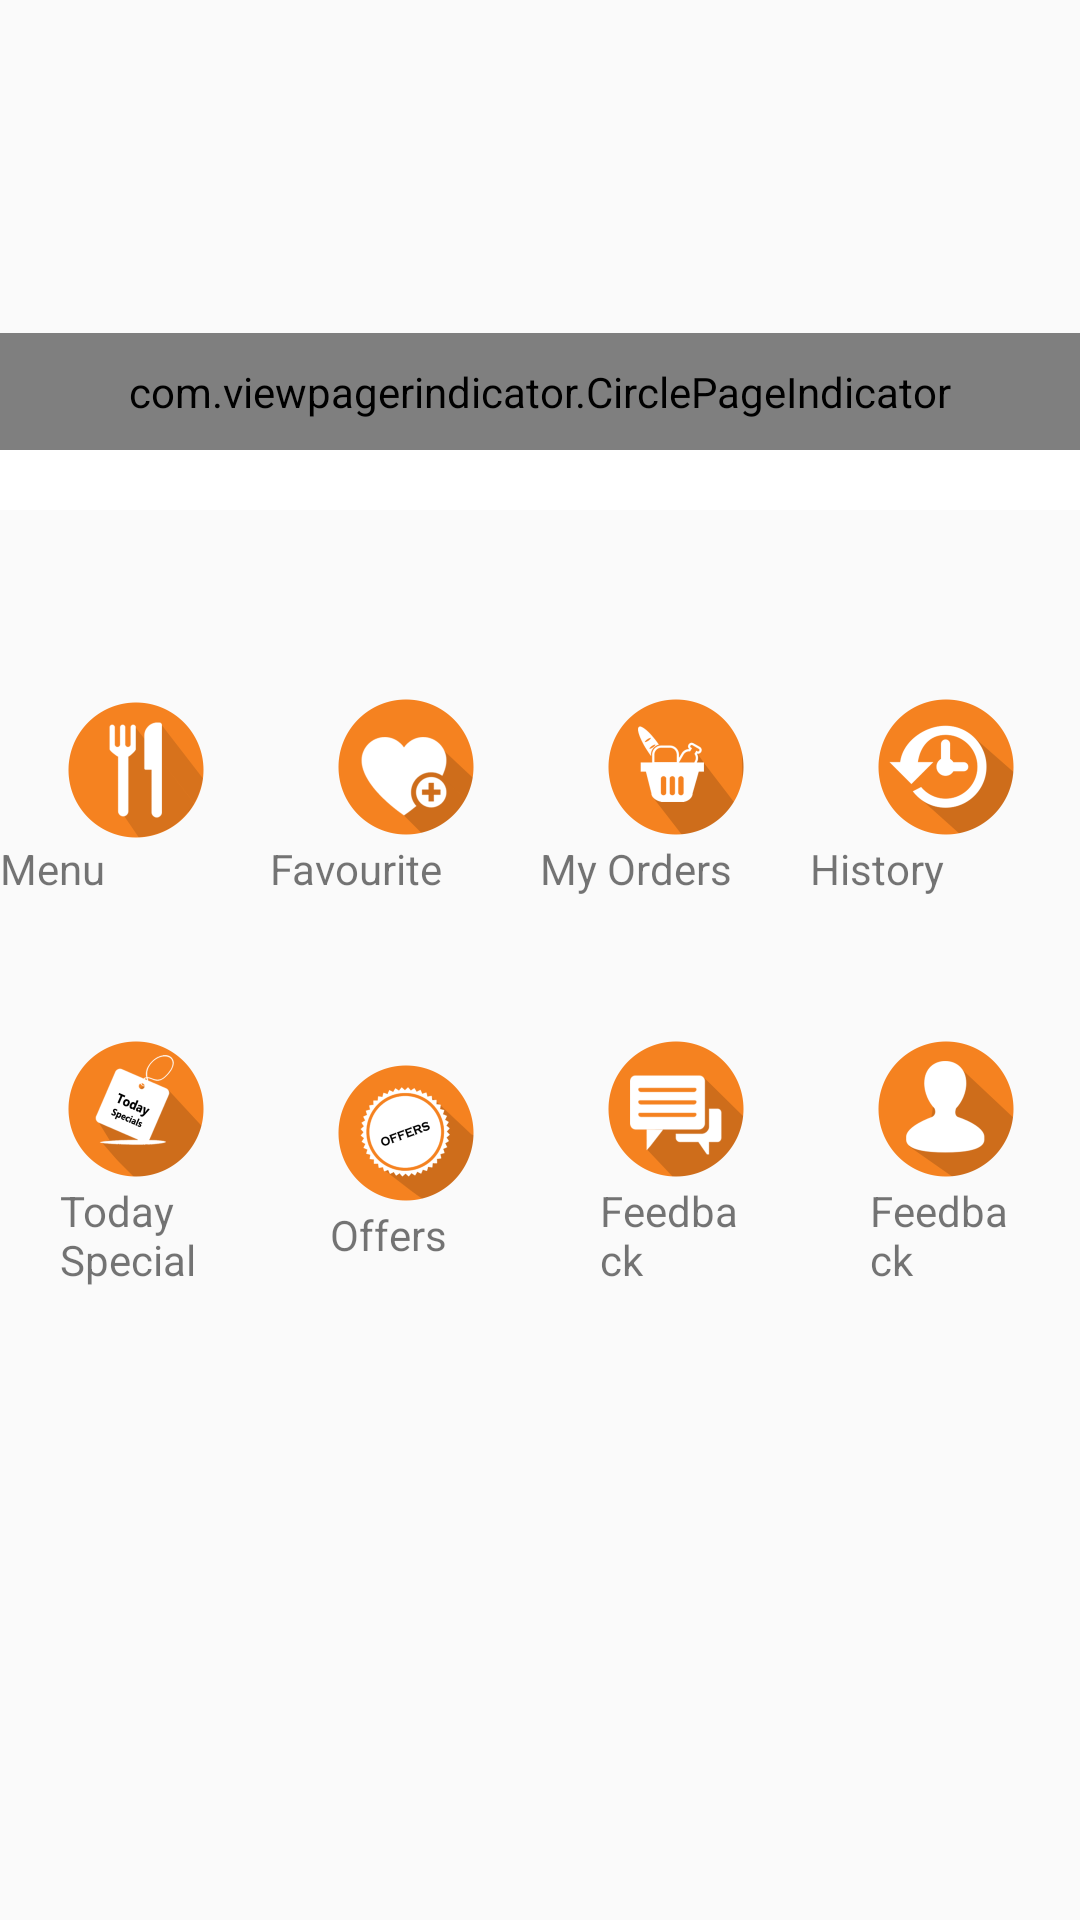

Where icons sit on this 1080 x 1920 app screen, as (x1, y1, x2, y2):
aboutnew: (878, 1041, 1014, 1177)
